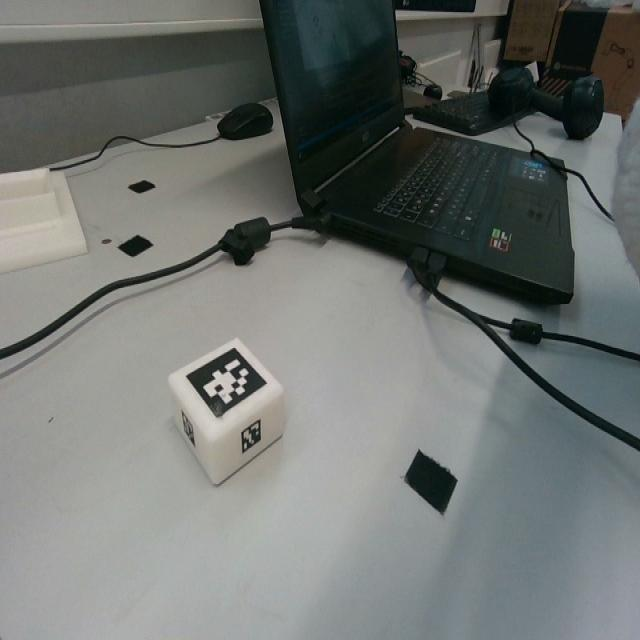Cube: (167, 336, 286, 485)
